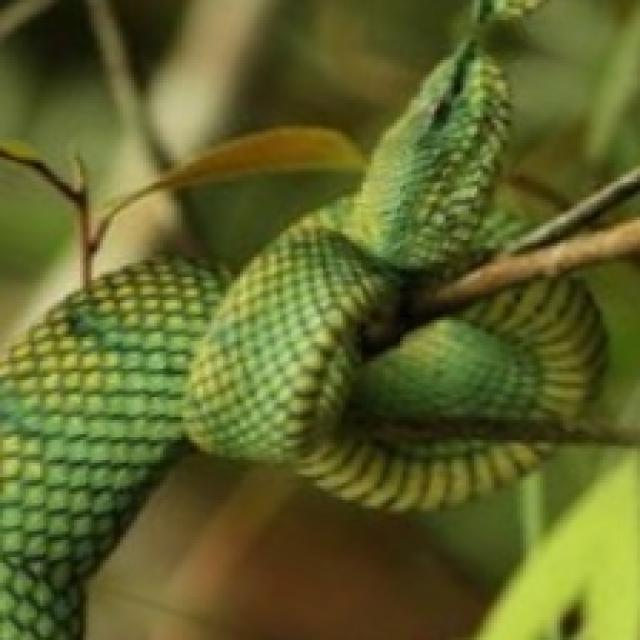north ph temple pitviper: (0, 37, 603, 637), (346, 331, 423, 420)
